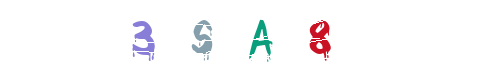3: (145, 0, 225, 80)
8: (280, 0, 360, 80)
A: (220, 0, 300, 80)
S: (210, 0, 290, 80)
